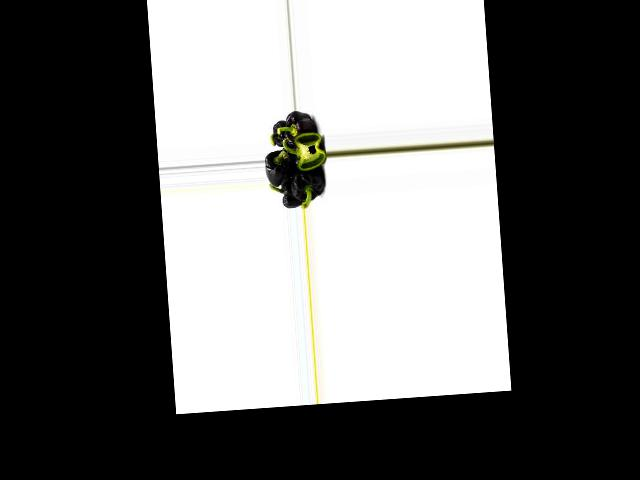bell_pepper: (283, 110, 315, 152)
